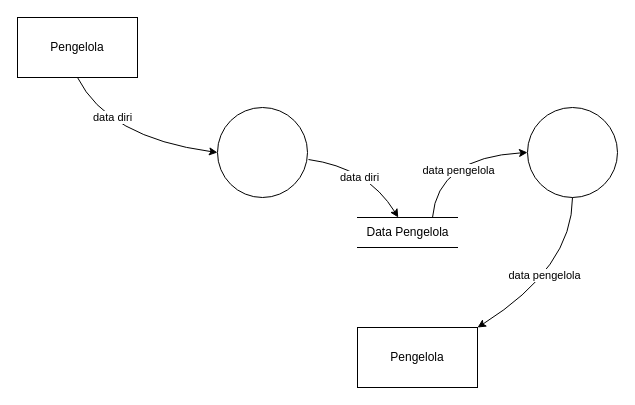
This 635x405 diagram has some shape labels left out. The shapes that lost their labels are listed below. From the top down, each one's centre as x and y in pixels, then its label:
At pixel 262 152: "1.0 Memasukkan data diri".
At pixel 572 152: "2.0 Menampilkan data pengelola".
